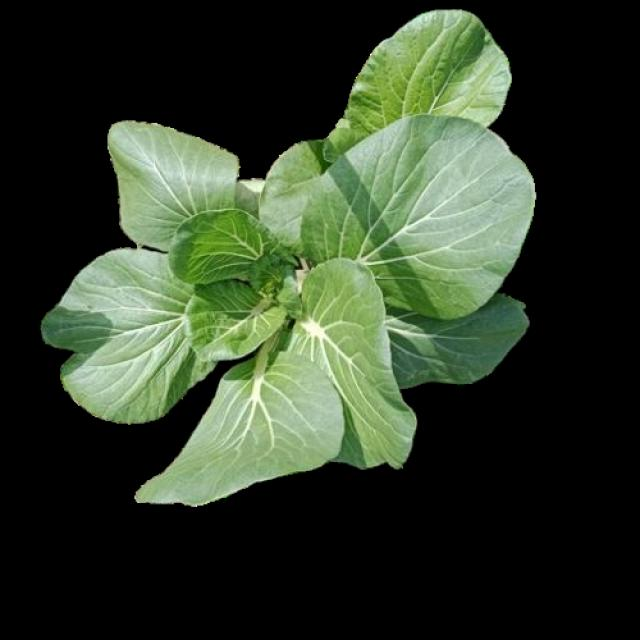healthy: (51, 33, 528, 500)
mature: (50, 10, 530, 503)
